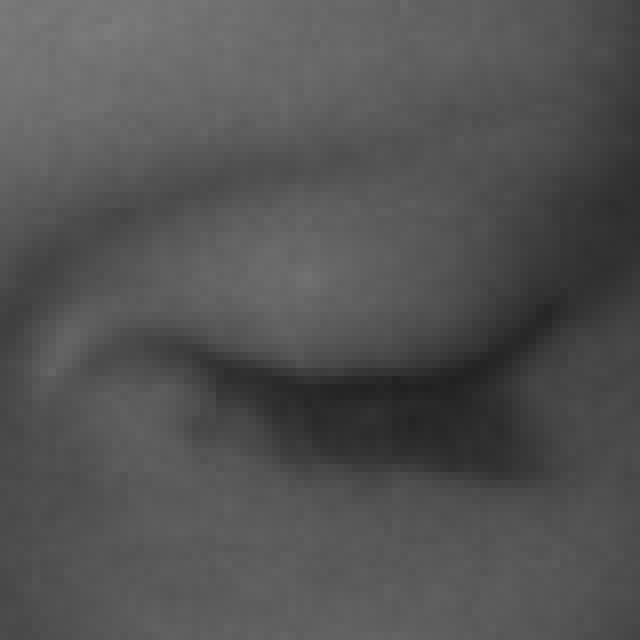Eyeclosed: (118, 174, 584, 572)
